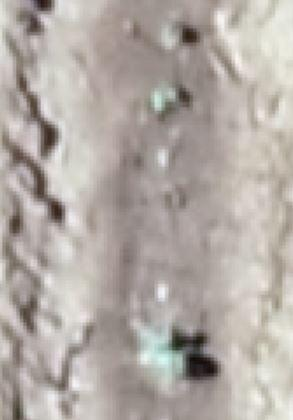cotton: (146, 328, 178, 373), (155, 86, 177, 107)
